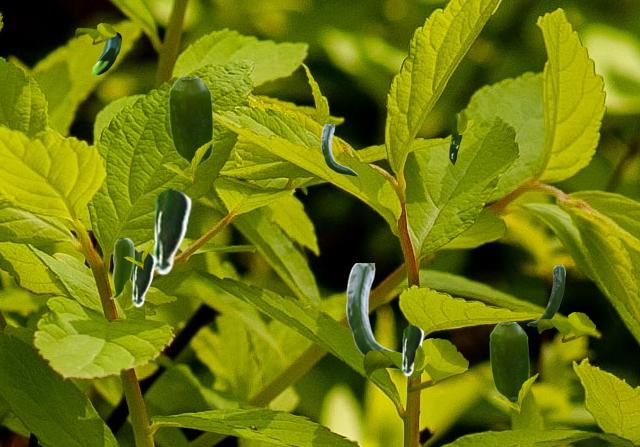green_chili: (346, 263, 398, 370), (168, 77, 212, 168), (150, 187, 191, 274), (489, 322, 528, 402), (527, 265, 564, 325), (321, 124, 357, 175), (109, 238, 133, 298), (130, 250, 155, 306), (91, 32, 120, 74), (400, 324, 423, 375), (449, 113, 463, 164)
